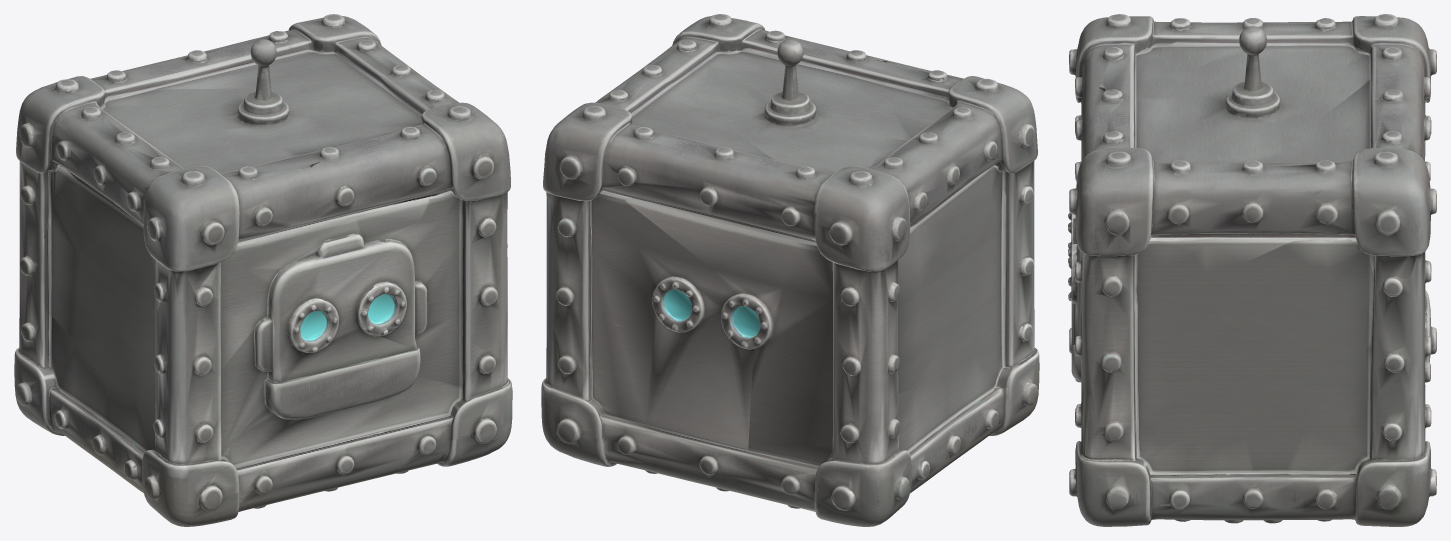
Rendered from chest-bots.glb.
3 views of the same model, side by side, from view 1: azimuth 30°, elevation 25°; view 2: azimuth 150°, elevation 25°; view 3: azimuth 270°, elevation 25° (orthographic). The views are drawn at different scales.
Parts seen in each view (by area): view 1: Mesh_0; view 2: Mesh_0; view 3: Mesh_0.
Boxes of the visible parts, box(x1,y1,x2,y2) form: Mesh_0: box(14, 14, 512, 526); Mesh_0: box(541, 14, 1039, 526); Mesh_0: box(1068, 14, 1436, 526).
Bounding box in the file's own units: 1.78 × 1.9 × 1.49.
Materials: 1 (1 with a texture image).
